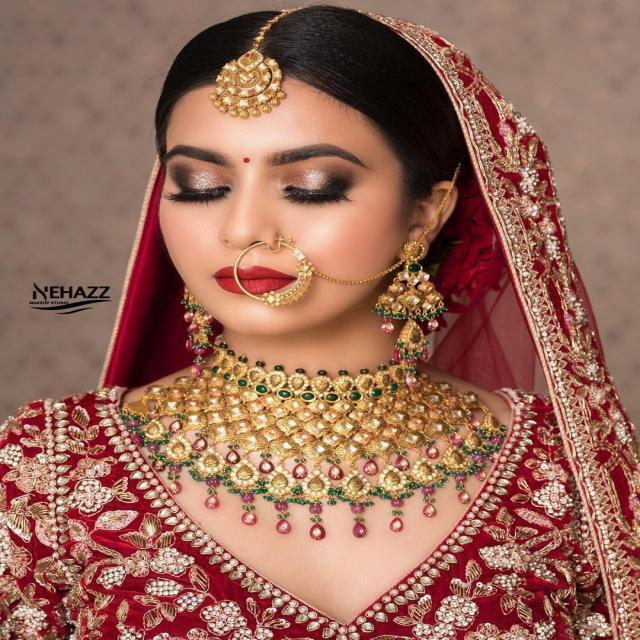Earring: (381, 220, 449, 394), (172, 279, 232, 376)
